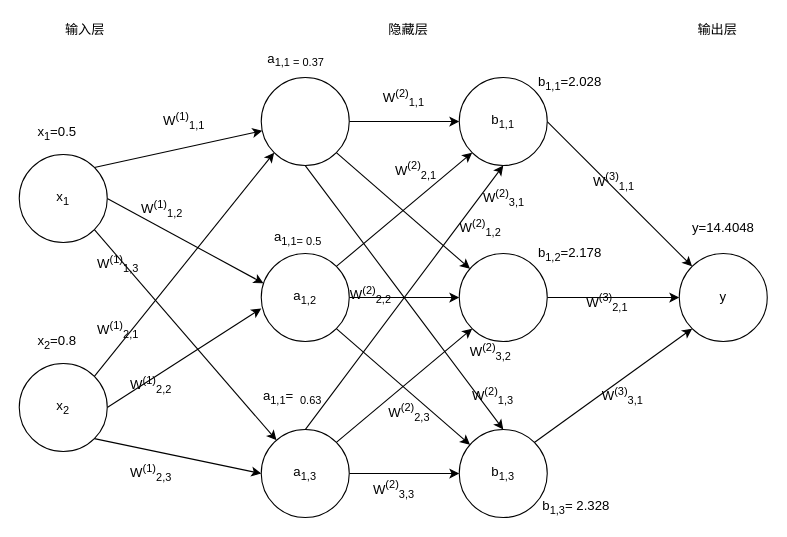
The diagram is 787 pixels wide and 537 high, and some of its shapes have lost their labels. Each missing label, with the centre of its shape:
a 1,1: pixel 304 121
b 1,2: pixel 502 297
